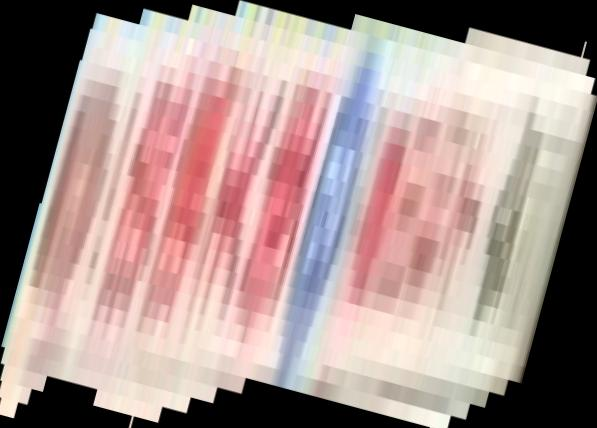flat: (1, 1, 597, 428)
